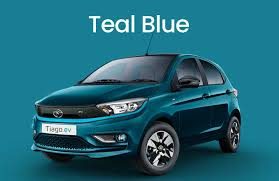Tiago: (30, 53, 242, 178)
